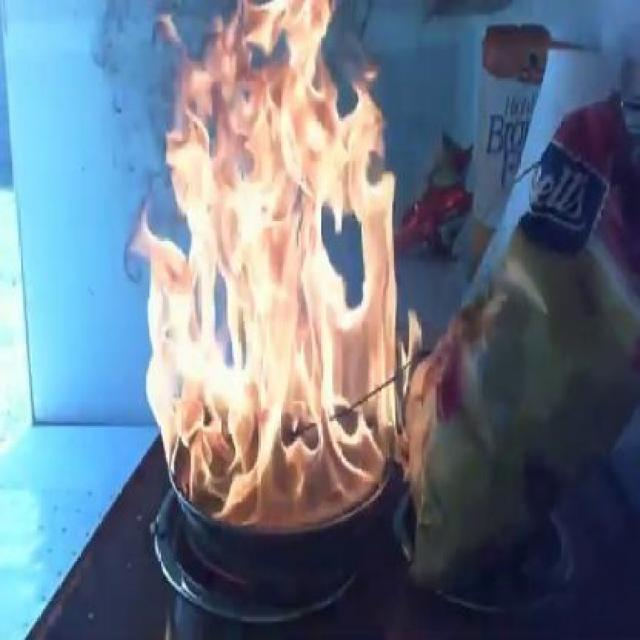fire: (162, 3, 390, 308), (150, 322, 398, 524)
